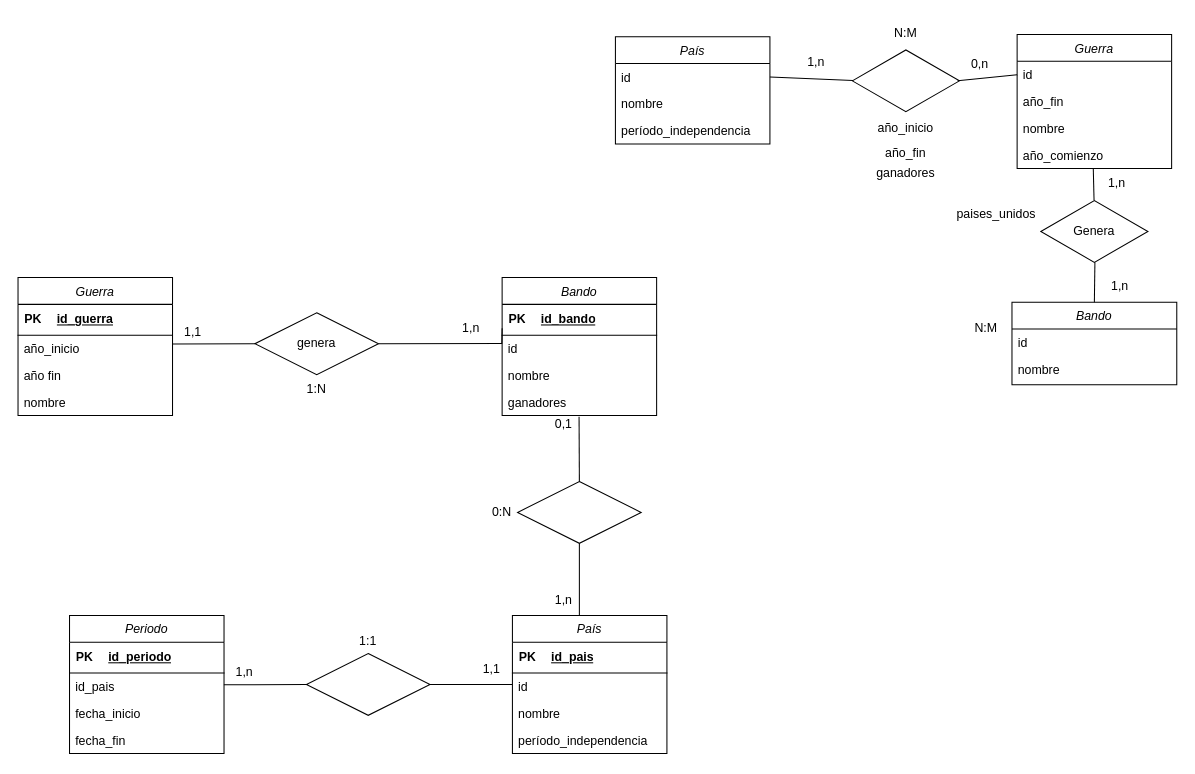
This 1195x774 diagram has some shape labels left out. The shapes that lost their labels are listed below. From the top down, each one's centre as x and y in pixels, then its label:
the point at 905,80: Provoca
the point at 579,511: se unen
the point at 367,684: almacena (datos)
